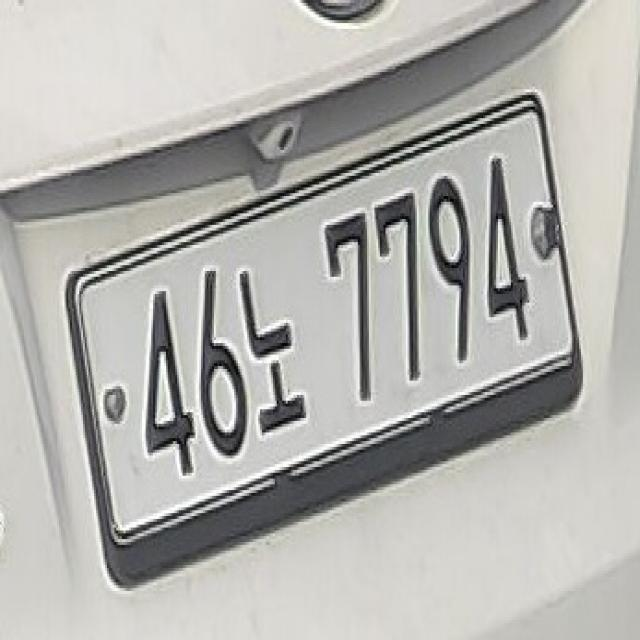4: (116, 276, 211, 506), (472, 144, 543, 349)
6: (186, 257, 261, 473)
7: (311, 206, 401, 416), (373, 184, 447, 394)
9: (425, 164, 491, 371)
license_plate: (47, 60, 610, 619)
no: (234, 237, 319, 452)
